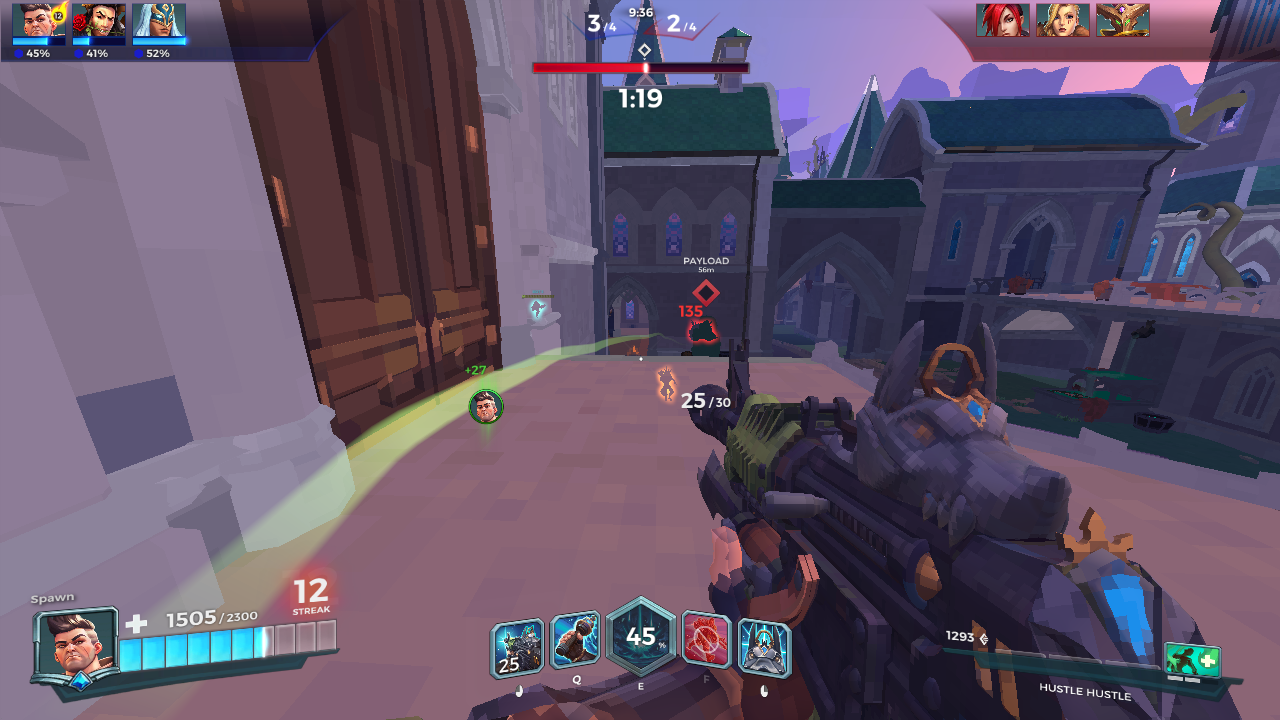model: (654, 363, 677, 406)
